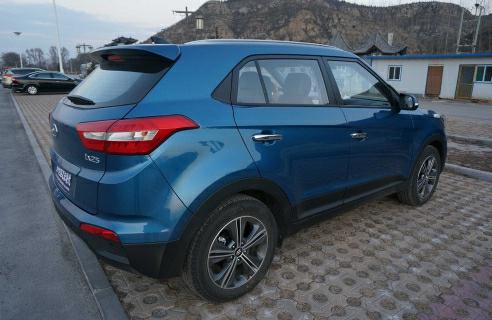现代-北京现代-ix35: (47, 36, 452, 302)
